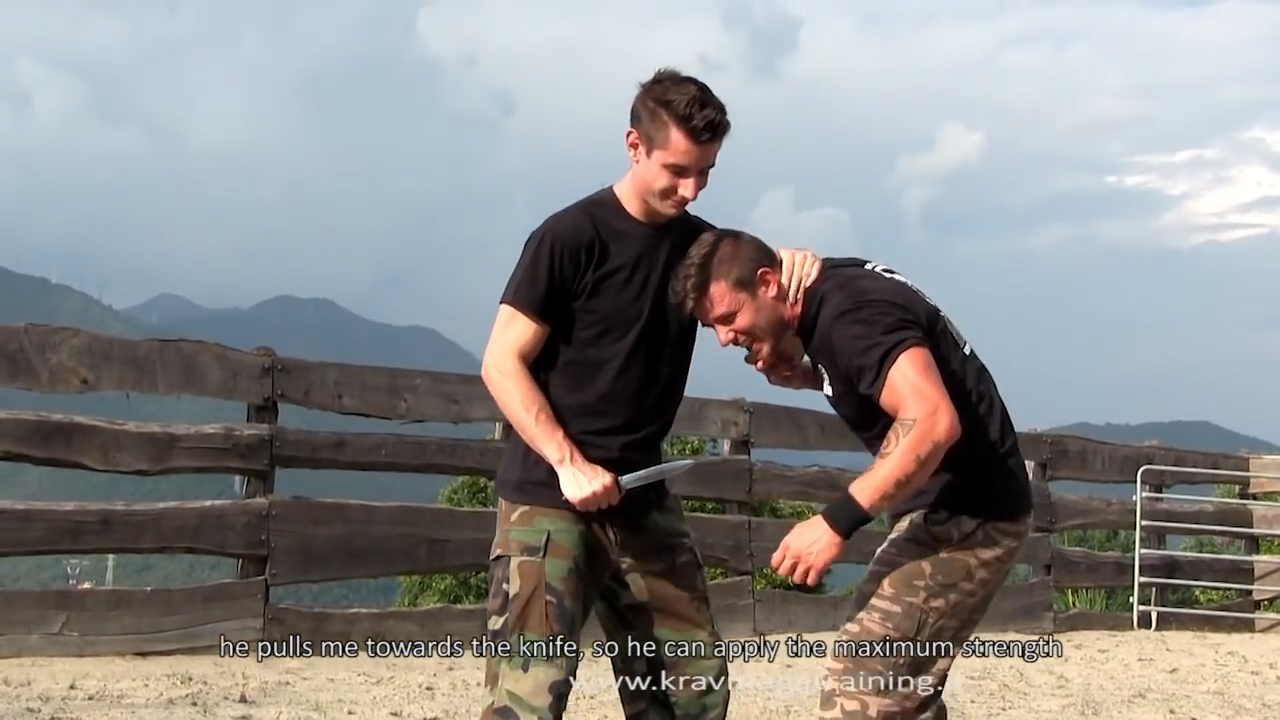knife: (554, 449, 708, 520)
